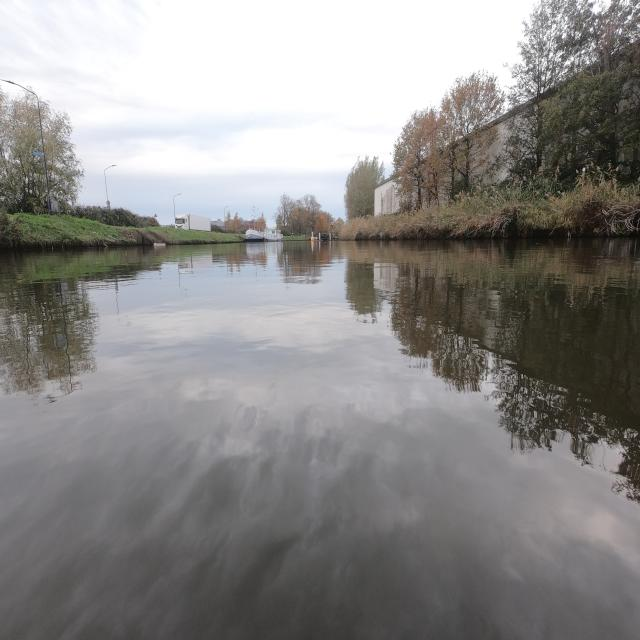grass: (1, 211, 154, 245), (155, 227, 244, 243)
reed: (340, 167, 640, 240)
sky: (2, 1, 530, 217)
tree: (511, 0, 640, 178), (439, 71, 504, 199), (0, 88, 47, 214), (393, 108, 445, 210), (41, 102, 83, 212)
water: (1, 236, 639, 639)
